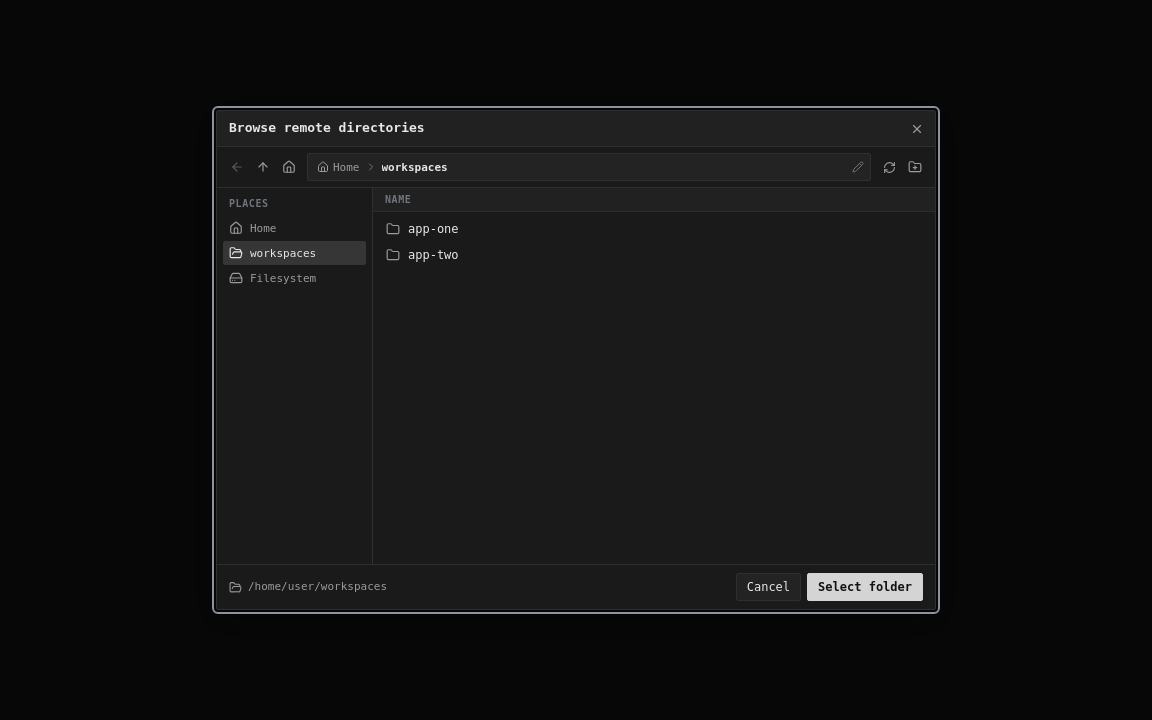
RemoteDirectoryChooser › validates folder names and displays inline error
This screenshot has width=1152, height=720.
Expected: the option "app-one" is shown, [377,216,931,242]
Step 1. Click the button named "New folder" → (915, 167), box [903,155,927,179]
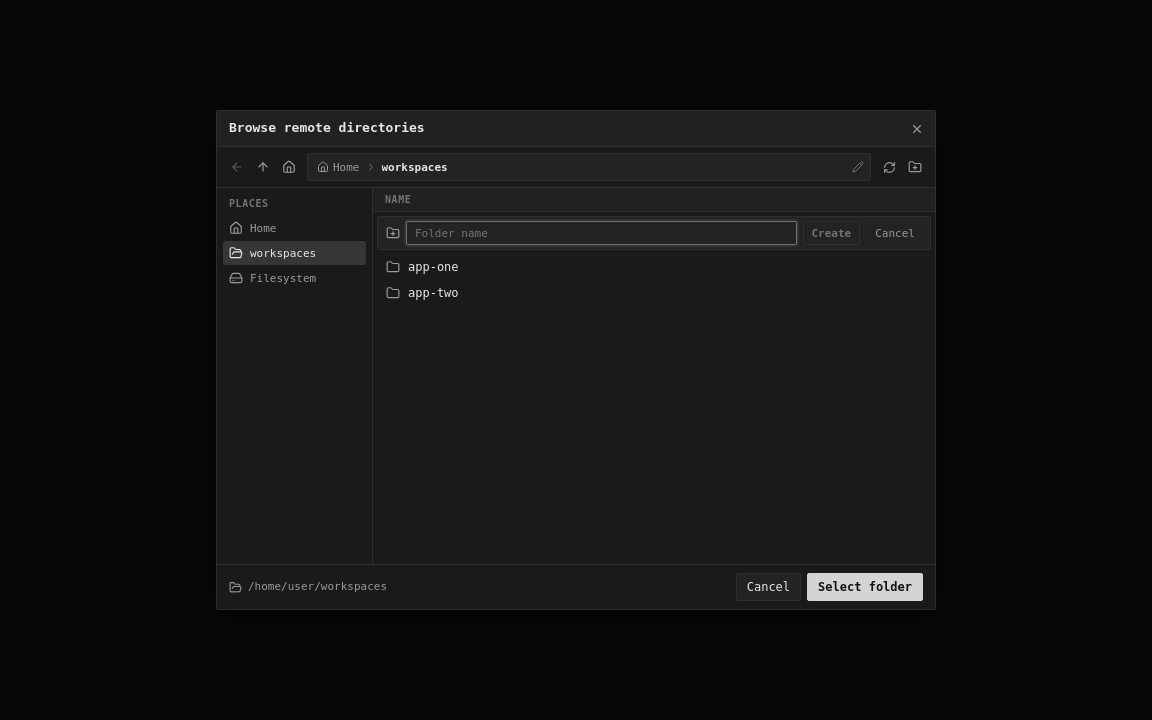
Step 2. Type "invalid/name" into the field named "New folder name" → (601, 233), box [406,221,796,245]
Then press Enter
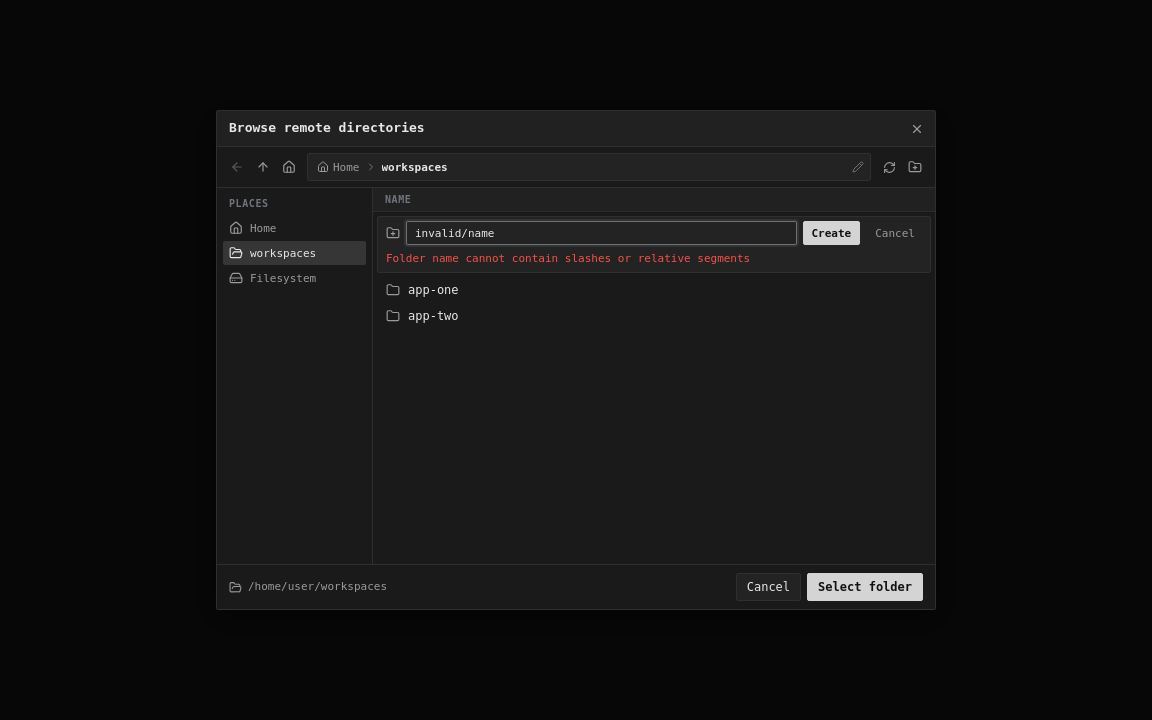
Result: the message shows "Folder name cannot contain slashes" at [386,252,750,265]
